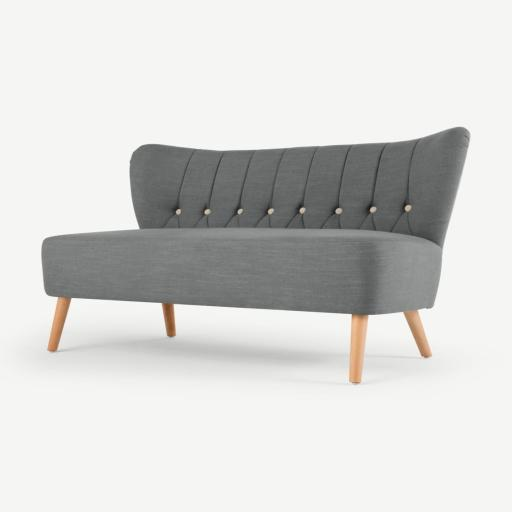back_cushion: (130, 128, 468, 242)
legs: (48, 298, 71, 351), (405, 311, 431, 356), (350, 315, 367, 383), (162, 303, 176, 337)
one-seater: (42, 128, 469, 382)
seat_cushion: (42, 228, 442, 314)
